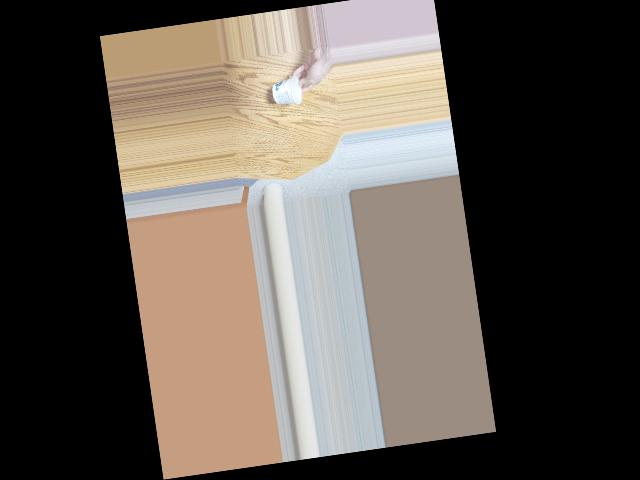cotage: (275, 77, 308, 109)
